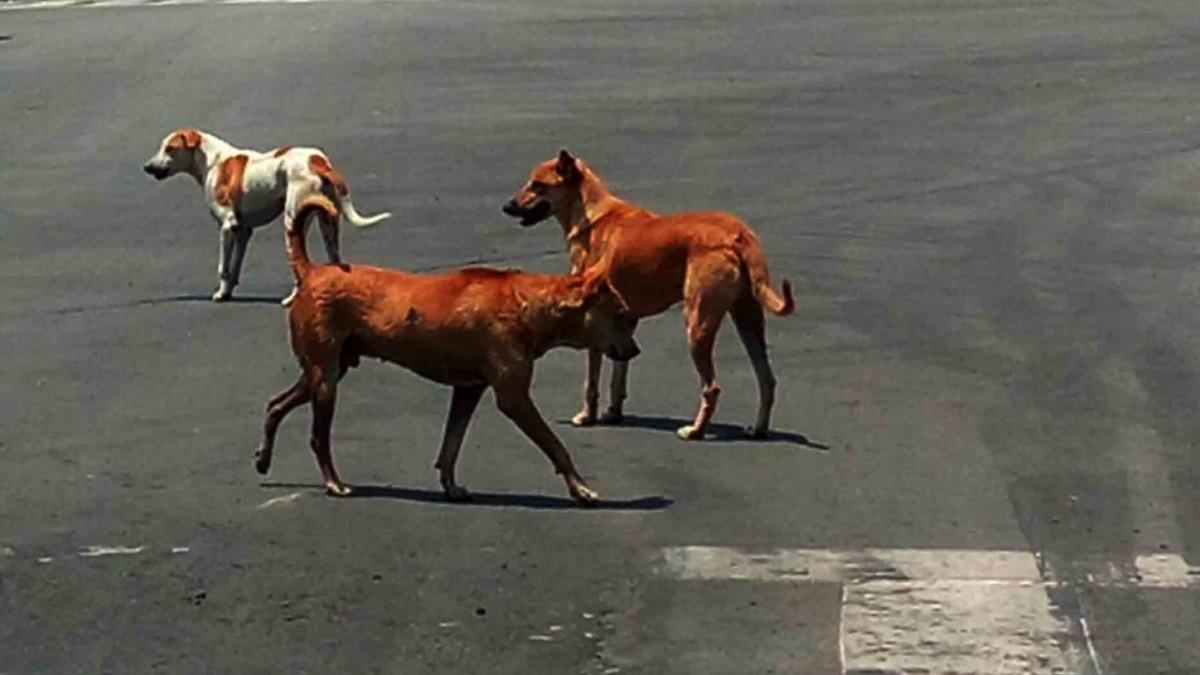normal_dogs: (255, 201, 646, 519), (503, 133, 830, 444), (126, 120, 390, 319)
